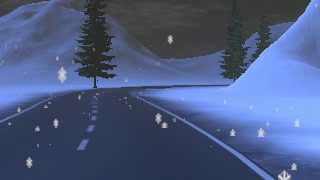Lane: (0, 84, 276, 179)
